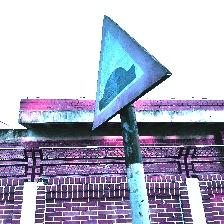Speed-breaker: (94, 6, 170, 128)
